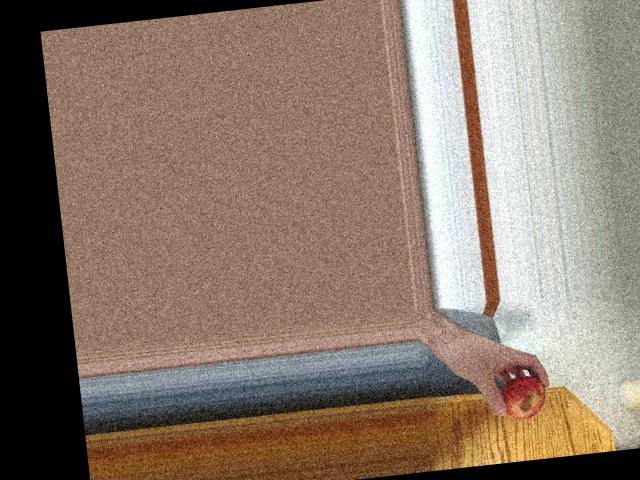apple: (494, 369, 549, 420)
